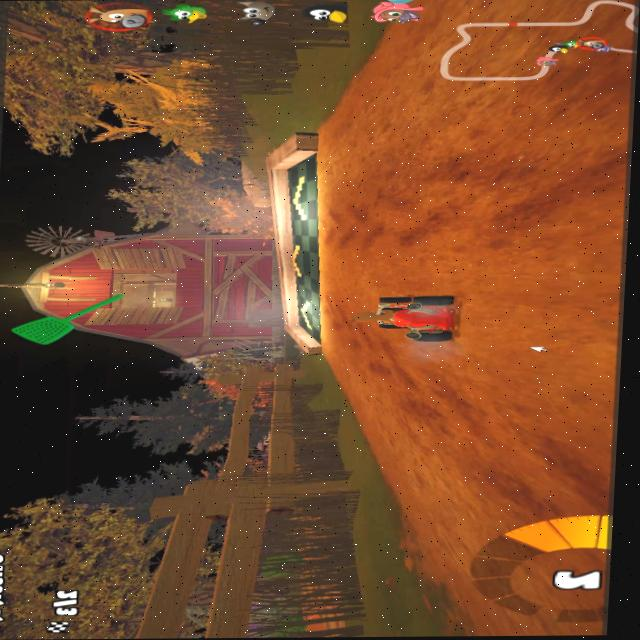player_kart: (346, 288, 472, 343)
power_up: (277, 176, 312, 222), (297, 298, 314, 335), (288, 245, 304, 281)
track: (390, 0, 639, 287), (456, 289, 620, 636), (311, 122, 396, 289), (336, 340, 467, 431), (383, 432, 468, 568), (344, 76, 396, 122)
